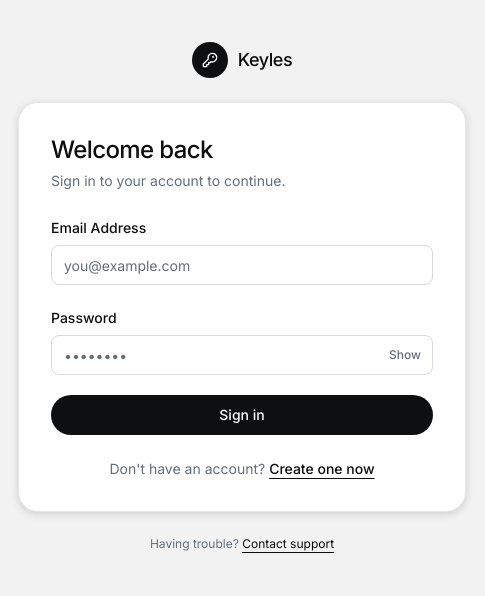
it: LoginPage › shows validation error for invalid email
In the field labelled "Email Address": (242, 265) x1=51 y1=245 x2=433 y2=285, type "invalid-email"
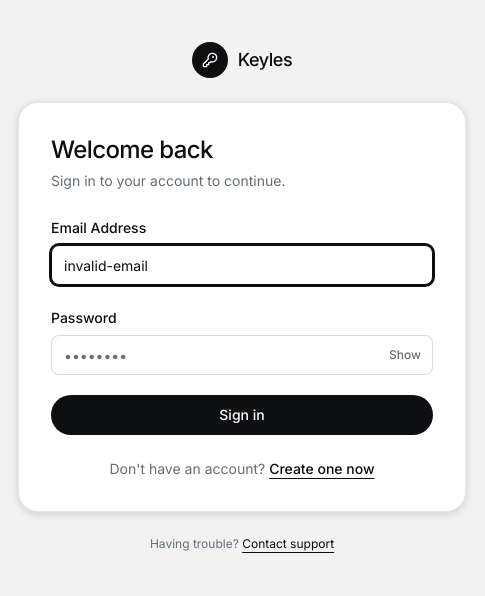
Click the button "Sign in": (242, 415) x1=51 y1=395 x2=433 y2=435
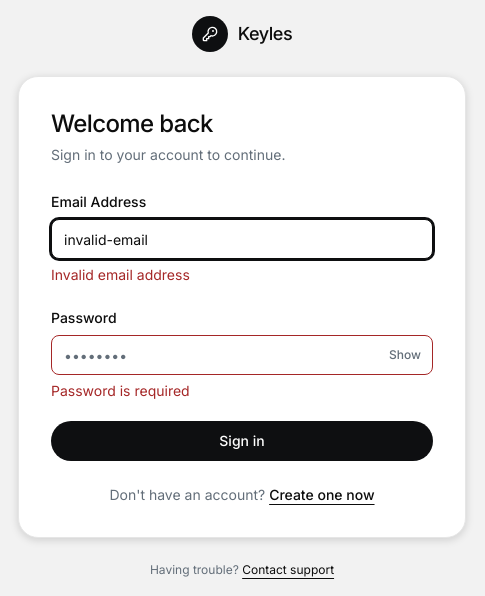
Expected: the text "Invalid email address" is shown, x1=51 y1=266 x2=190 y2=283
